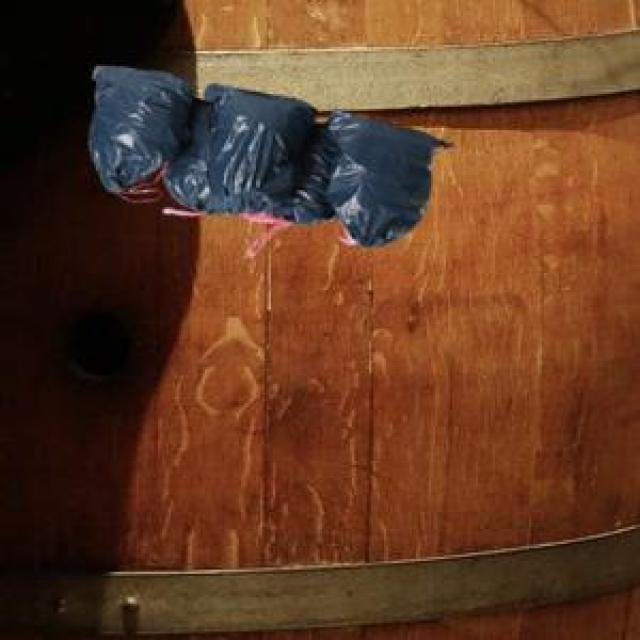waste: (89, 68, 439, 243)
